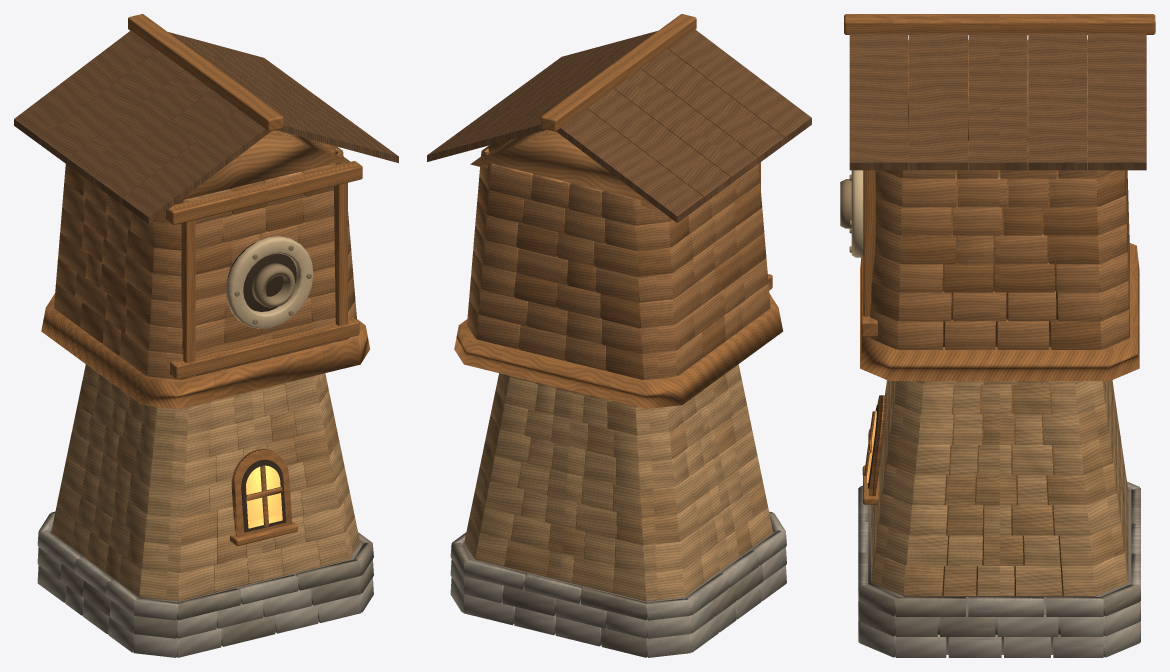
Rendered from wind_housing.glb.
The picture shows the model from 3 angles, left to right: view 1: azimuth 30°, elevation 25°; view 2: azimuth 150°, elevation 25°; view 3: azimuth 270°, elevation 25°; orthographic projection. The views are drawn at different scales.
Visible parts, largest first — view 1: Weathered, Roof, Frame, Oak, OakShade, Stone, WeatheredShade, StoneShade, Brass, Recess, Amber, BrassDark (+1 smaller); view 2: Weathered, Oak, Roof, OakShade, Stone, Frame, WeatheredShade, StoneShade, Mortar; view 3: Roof, Weathered, Oak, Frame, WeatheredShade, OakShade, Stone, StoneShade, Mortar, Brass, BrassDark.
Part boxes in pixels (bbox=[...]): Weathered: bbox=[51, 364, 360, 600]; Roof: bbox=[14, 30, 398, 224]; Frame: bbox=[41, 14, 369, 545]; Oak: bbox=[54, 146, 356, 379]; OakShade: bbox=[62, 130, 355, 601]; Stone: bbox=[37, 513, 373, 657]; WeatheredShade: bbox=[61, 380, 339, 580]; StoneShade: bbox=[51, 511, 373, 646]; Brass: bbox=[226, 236, 313, 328]; Recess: bbox=[226, 242, 296, 532]; Amber: bbox=[246, 465, 282, 528]; BrassDark: bbox=[234, 245, 311, 324]; Weathered: bbox=[464, 364, 773, 600]; Oak: bbox=[467, 145, 770, 379]; Roof: bbox=[427, 29, 811, 222]; OakShade: bbox=[470, 130, 766, 601]; Stone: bbox=[450, 513, 786, 657]; Frame: bbox=[454, 14, 783, 408]; WeatheredShade: bbox=[469, 374, 767, 576]; StoneShade: bbox=[450, 511, 786, 657]; Mortar: bbox=[462, 532, 773, 602]; Roof: bbox=[849, 33, 1146, 170]; Weathered: bbox=[871, 380, 1128, 595]; Oak: bbox=[869, 148, 1129, 349]; Frame: bbox=[844, 14, 1155, 504]; WeatheredShade: bbox=[882, 381, 1128, 595]; OakShade: bbox=[871, 39, 1129, 596]; Stone: bbox=[858, 481, 1140, 657]; StoneShade: bbox=[858, 488, 1140, 636]; Mortar: bbox=[868, 491, 1131, 654]; Brass: bbox=[851, 170, 863, 257]; BrassDark: bbox=[840, 174, 851, 252].
Size of the model in its own units: 0.23 by 0.4585 by 0.2275.
Materials: 13 (9 with a texture image).
